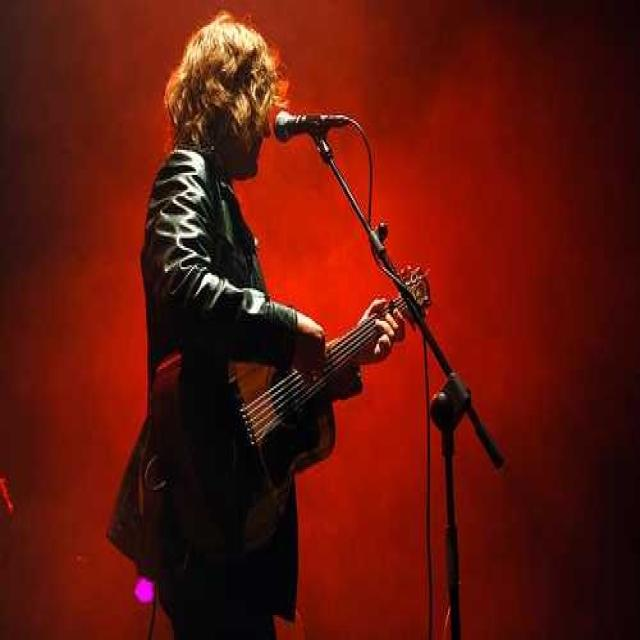microphone: (265, 104, 365, 147)
